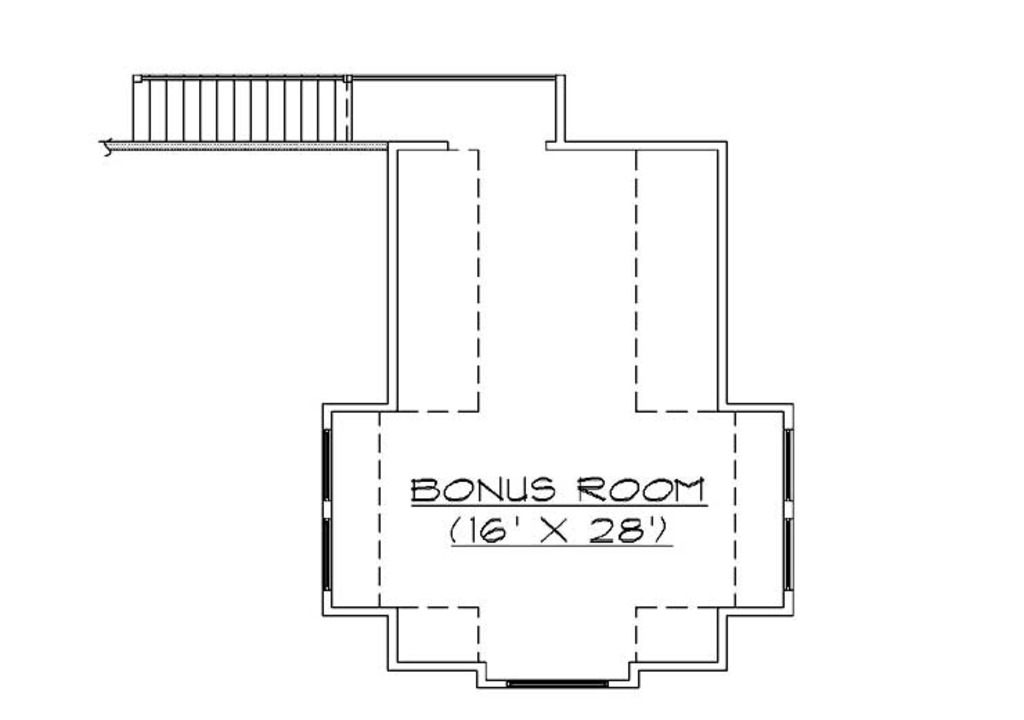stairs: (126, 70, 356, 148)
window: (498, 676, 612, 691), (317, 425, 335, 500), (781, 514, 795, 591), (785, 429, 792, 499), (323, 520, 328, 587)
